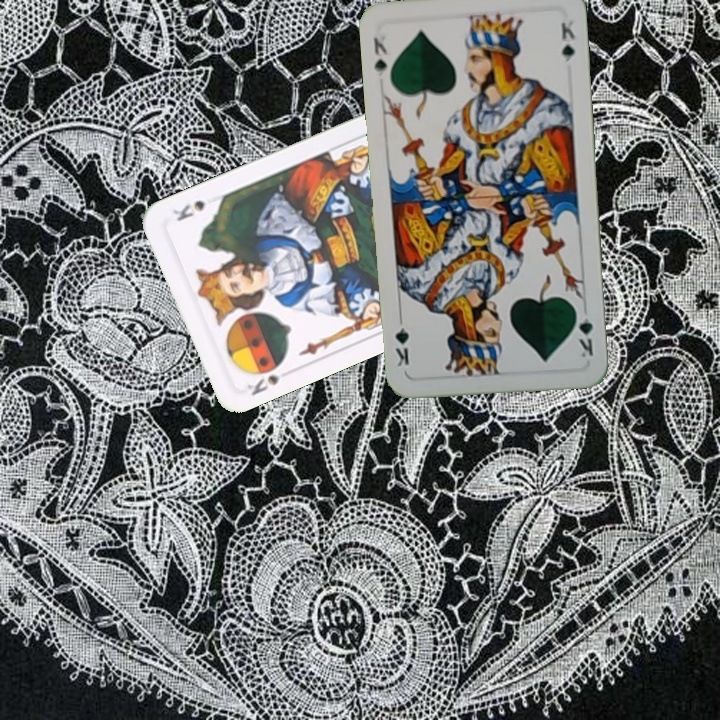GK: (571, 303, 596, 360), (369, 27, 390, 79)
SK: (242, 371, 282, 398)
